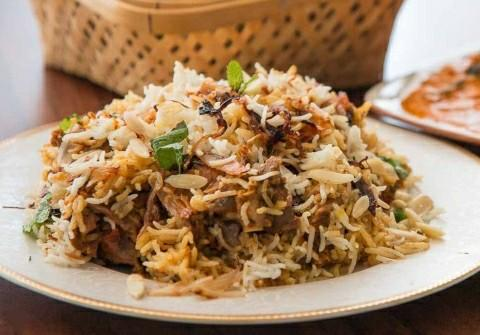Biryani: (22, 57, 442, 296)
